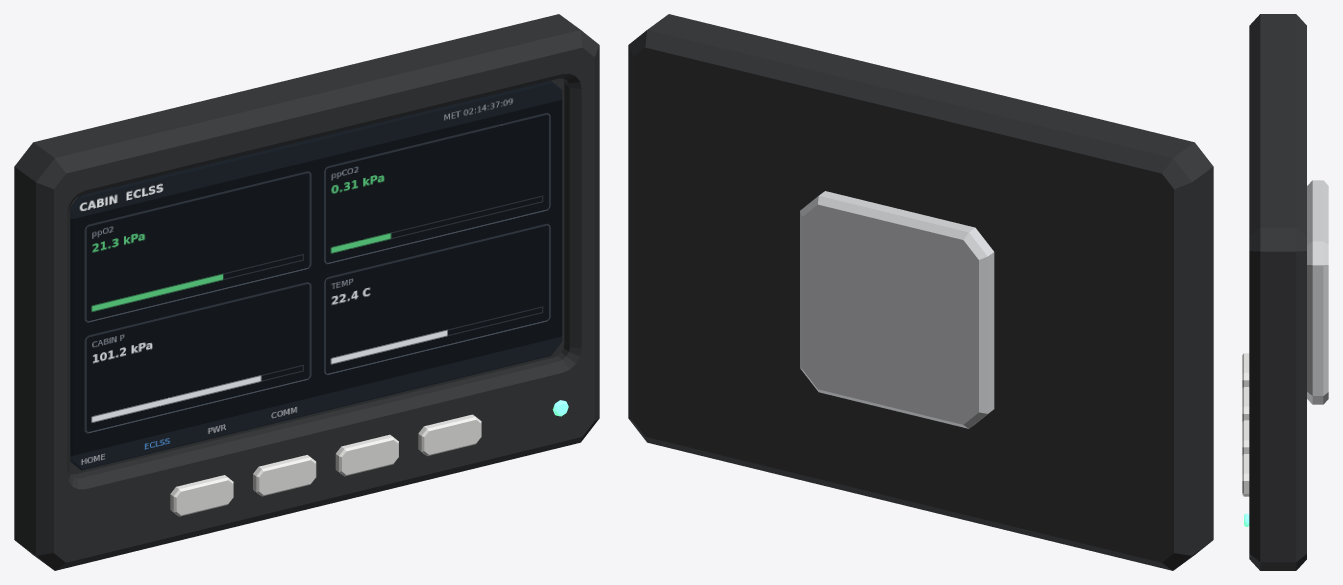
Rendered from eqm50_touchscreen_small.glb.
3 views of the same model, side by side, from view 1: azimuth 30°, elevation 25°; view 2: azimuth 150°, elevation 25°; view 3: azimuth 270°, elevation 25° (orthographic). The views are drawn at different scales.
Parts seen in each view (by area): view 1: eqm50_screen, eqm50_housing, eqm50_keys; view 2: eqm50_housing; view 3: eqm50_housing, eqm50_keys.
Part boxes in pixels (x1,y1,x2,y2): eqm50_screen: (70, 80, 562, 470); eqm50_housing: (14, 14, 599, 570); eqm50_keys: (170, 400, 568, 516); eqm50_housing: (628, 14, 1213, 570); eqm50_housing: (1249, 14, 1328, 570); eqm50_keys: (1242, 353, 1249, 526).
Size of the model in its own units: 0.3 by 0.21 by 0.048.
Materials: 5 (1 with a texture image).
